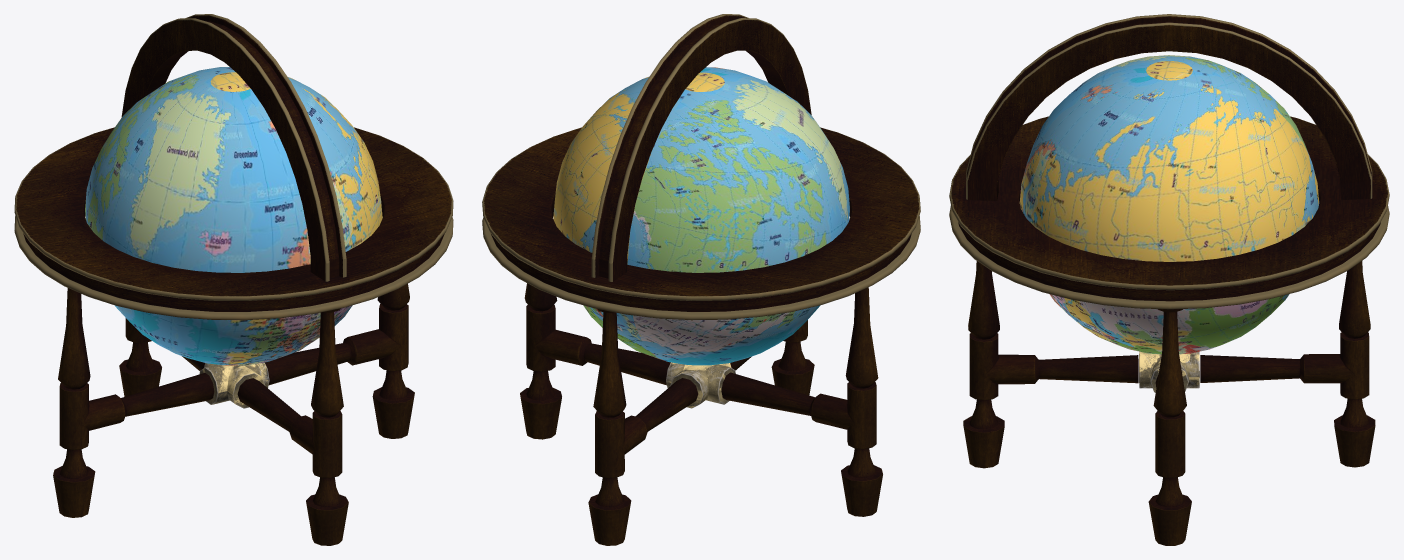
Rendered from globe.glb.
3 renders of one model, left to right at view 1: azimuth 30°, elevation 25°; view 2: azimuth 150°, elevation 25°; view 3: azimuth 270°, elevation 25°, orthographic.
Visible parts, largest first — view 1: globe_globe_earth, globe_globe_equator, globe_globe_equator1, globe_globe_stand004, globe_globe_stand001, globe_globe_stand002, globe_globe_stand003, globe_globe_middlePiece; view 2: globe_globe_earth, globe_globe_equator, globe_globe_equator1, globe_globe_stand004, globe_globe_stand003, globe_globe_stand002, globe_globe_stand001, globe_globe_middlePiece; view 3: globe_globe_earth, globe_globe_equator, globe_globe_equator1, globe_globe_stand001, globe_globe_stand003, globe_globe_stand002, globe_globe_middlePiece.
Part boxes in pixels (box(x1,y1,x2,y2)): globe_globe_earth: box(85, 67, 382, 365); globe_globe_equator: box(14, 127, 453, 320); globe_globe_equator1: box(121, 14, 346, 281); globe_globe_stand004: box(53, 288, 214, 517); globe_globe_stand001: box(237, 308, 348, 545); globe_globe_stand002: box(264, 283, 414, 438); globe_globe_stand003: box(119, 318, 204, 396); globe_globe_middlePiece: box(199, 362, 269, 408); globe_globe_earth: box(553, 67, 849, 365); globe_globe_equator: box(482, 127, 920, 320); globe_globe_equator1: box(591, 14, 811, 281); globe_globe_stand004: box(721, 287, 882, 516); globe_globe_stand003: box(588, 309, 698, 545); globe_globe_stand002: box(520, 283, 670, 439); globe_globe_stand001: box(730, 320, 814, 395); globe_globe_middlePiece: box(666, 362, 735, 408); globe_globe_earth: box(1019, 55, 1319, 354); globe_globe_equator: box(949, 116, 1389, 309); globe_globe_equator1: box(966, 14, 1372, 200); globe_globe_stand001: box(963, 261, 1138, 468); globe_globe_stand003: box(1200, 261, 1375, 467); globe_globe_stand002: box(1148, 309, 1191, 545); globe_globe_middlePiece: box(1139, 351, 1199, 392).
Bounding box in the file's own units: 0.3407 × 0.3779 × 0.3407.
5 materials, 5 textured.
